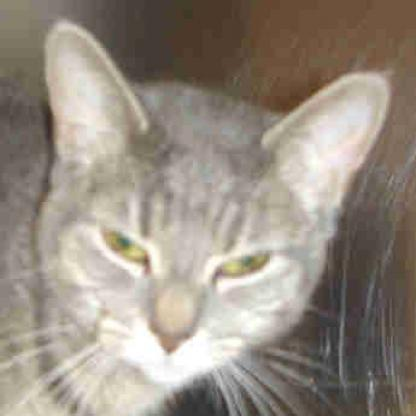cat: (22, 24, 370, 379)
